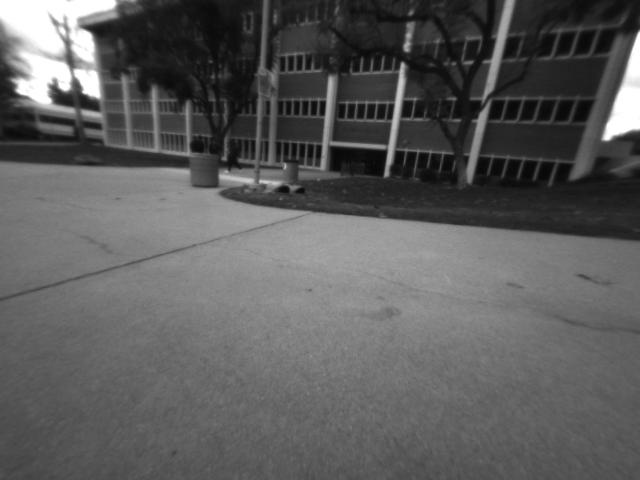trashcan: (186, 144, 224, 194), (278, 155, 301, 184)
